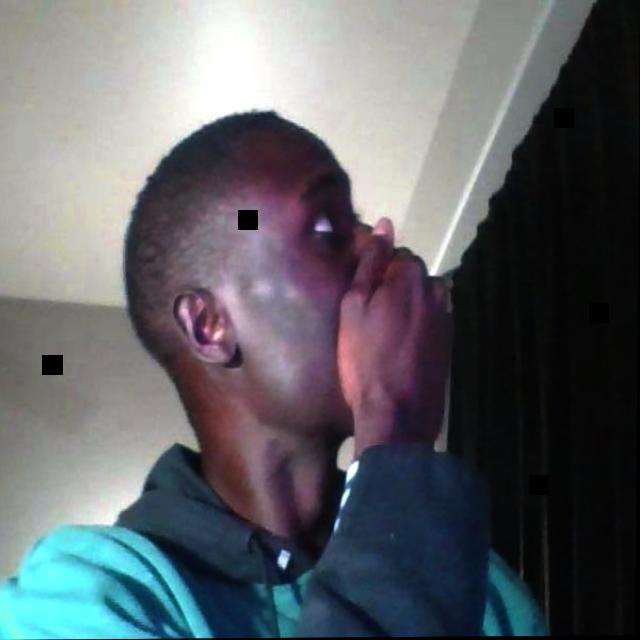NO-Mask: (224, 144, 374, 443)
